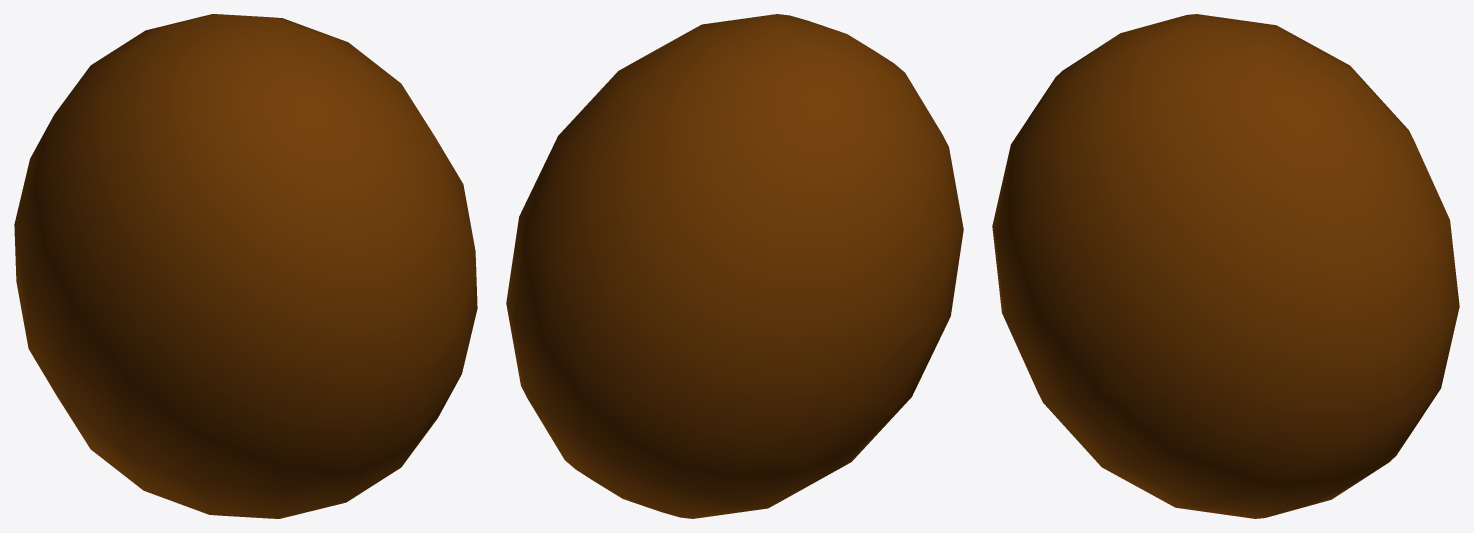
File: coconut.FBX
3 views of the same model, side by side, from view 1: azimuth 30°, elevation 25°; view 2: azimuth 150°, elevation 25°; view 3: azimuth 270°, elevation 25° (orthographic). The views are drawn at different scales.
Parts seen in each view (by area): view 1: Sphere002; view 2: Sphere002; view 3: Sphere002.
Part boxes in pixels (bbox=[...]): Sphere002: bbox=[14, 14, 477, 518]; Sphere002: bbox=[506, 14, 963, 518]; Sphere002: bbox=[992, 14, 1459, 518].
Size of the model in its own units: 10 by 11.8 by 11.04.
